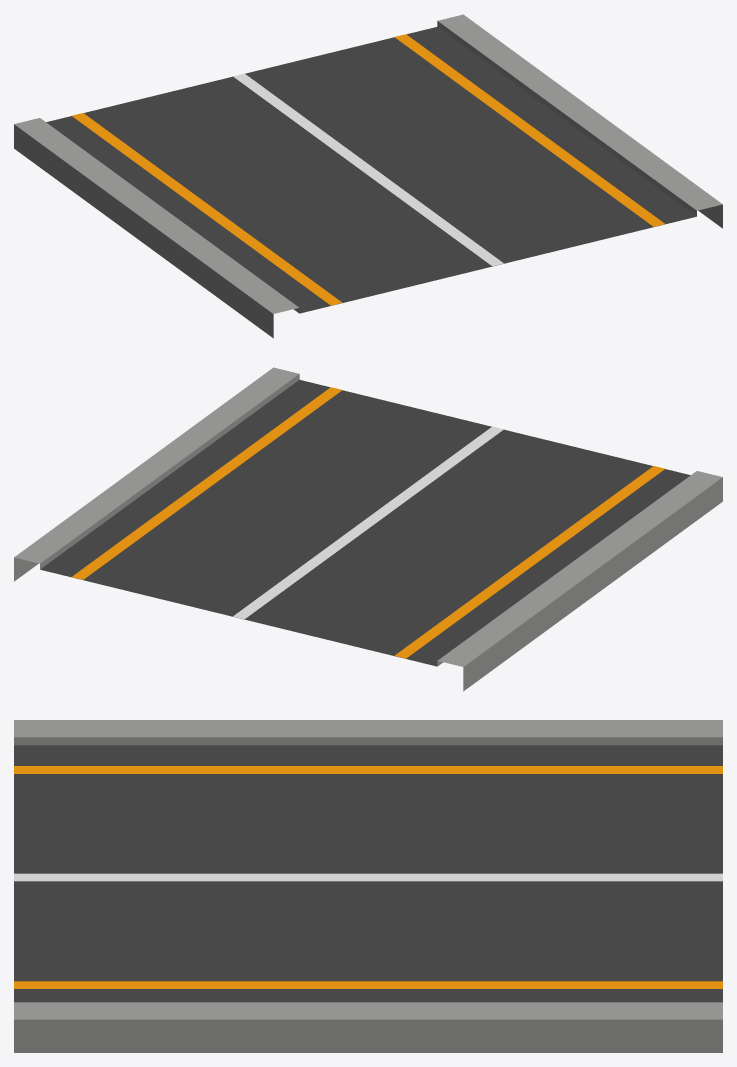
File: Road_A_2.fbx
3 renders of one model, top to bottom at view 1: azimuth 30°, elevation 25°; view 2: azimuth 150°, elevation 25°; view 3: azimuth 270°, elevation 25°, orthographic. The views are drawn at different scales.
Parts seen in each view (by area): view 1: Road_A_2; view 2: Road_A_2; view 3: Road_A_2.
Boxes of the visible parts, x1,y1,x2,y2 form: Road_A_2: (14,14,722,338); Road_A_2: (14,367,722,691); Road_A_2: (14,720,722,1052).
Bounding box in the file's own units: 800 × 41.48 × 800.
